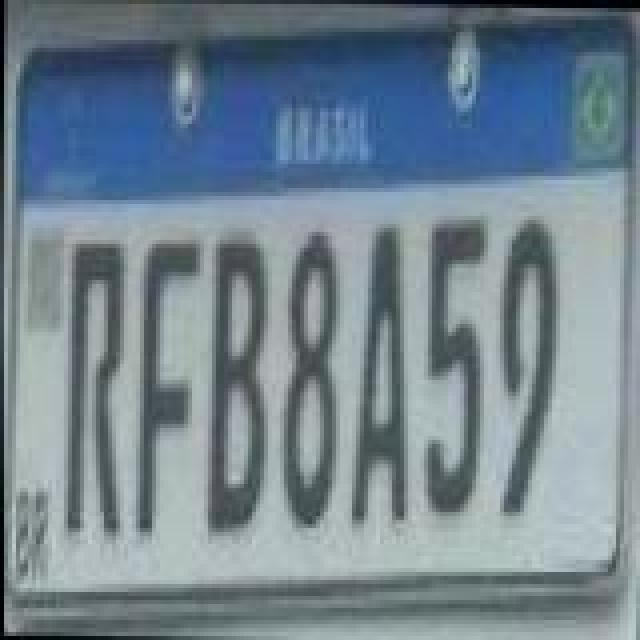5: (426, 208, 490, 520)
8: (282, 226, 346, 530)
9: (498, 216, 562, 520)
A: (350, 220, 414, 524)
B: (210, 232, 270, 536)
F: (136, 230, 200, 534)
R: (64, 240, 128, 536)
